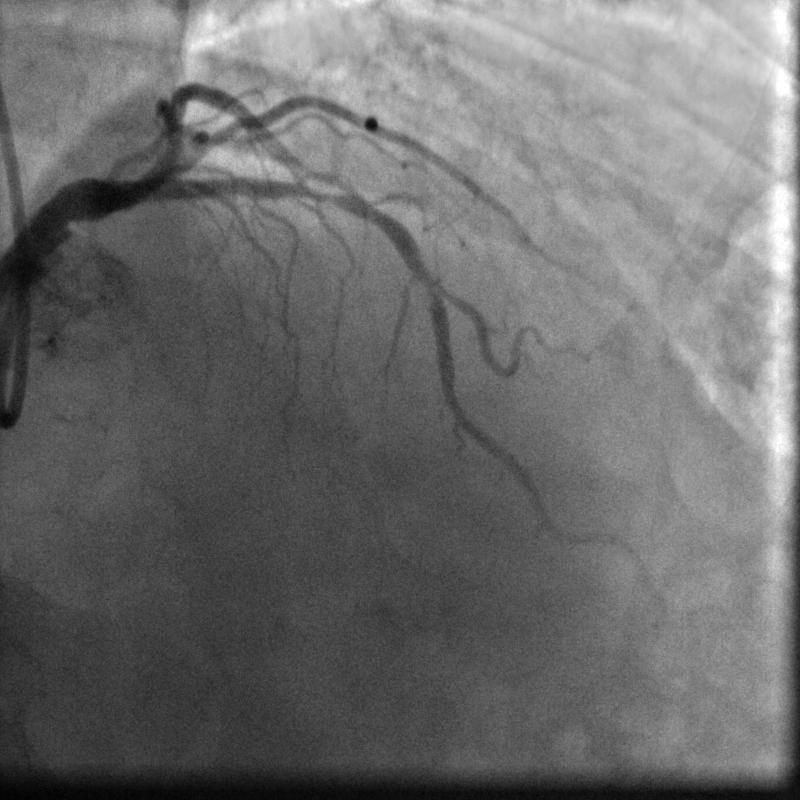Stenosis: (286, 179, 344, 208)
